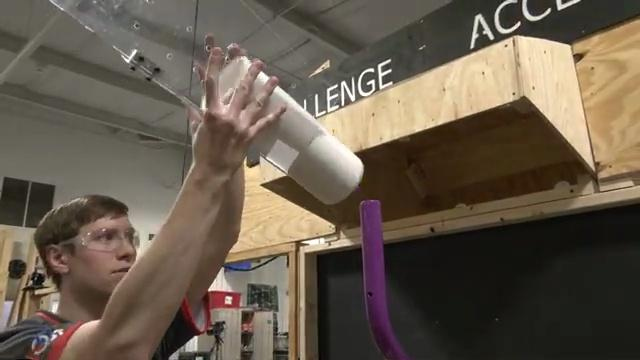CORAL: (198, 54, 365, 206)
